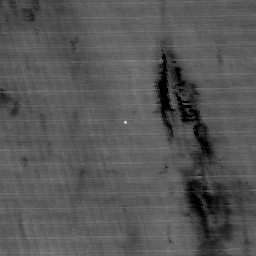Target: (121, 118, 128, 126)
